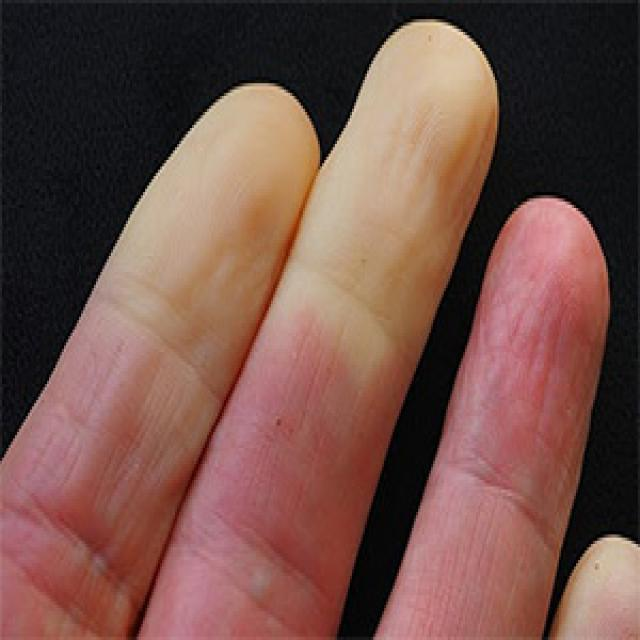raynauds: (104, 26, 317, 416), (260, 29, 533, 304)
